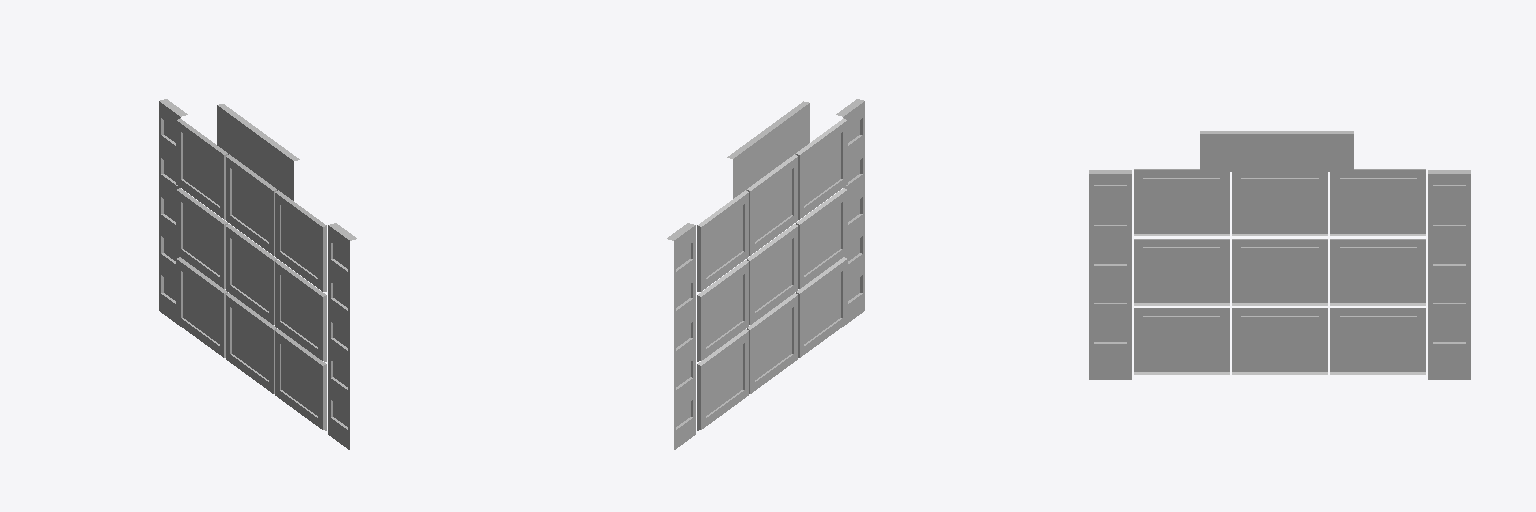
Rendered from Island_Screen.obj.
The picture shows the model from 3 angles: view 1: azimuth 30°, elevation 25°; view 2: azimuth 150°, elevation 25°; view 3: azimuth 270°, elevation 25°; orthographic projection.
Visible parts, largest first — view 1: polySurface5097; view 2: polySurface5097; view 3: polySurface5097.
Boxes of the visible parts, box(x1,y1,x2,y2) form: polySurface5097: box(159, 99, 356, 449); polySurface5097: box(667, 99, 864, 449); polySurface5097: box(1089, 131, 1470, 379).
Bounding box in the file's own units: 0.0514 × 0.9583 × 1.34.